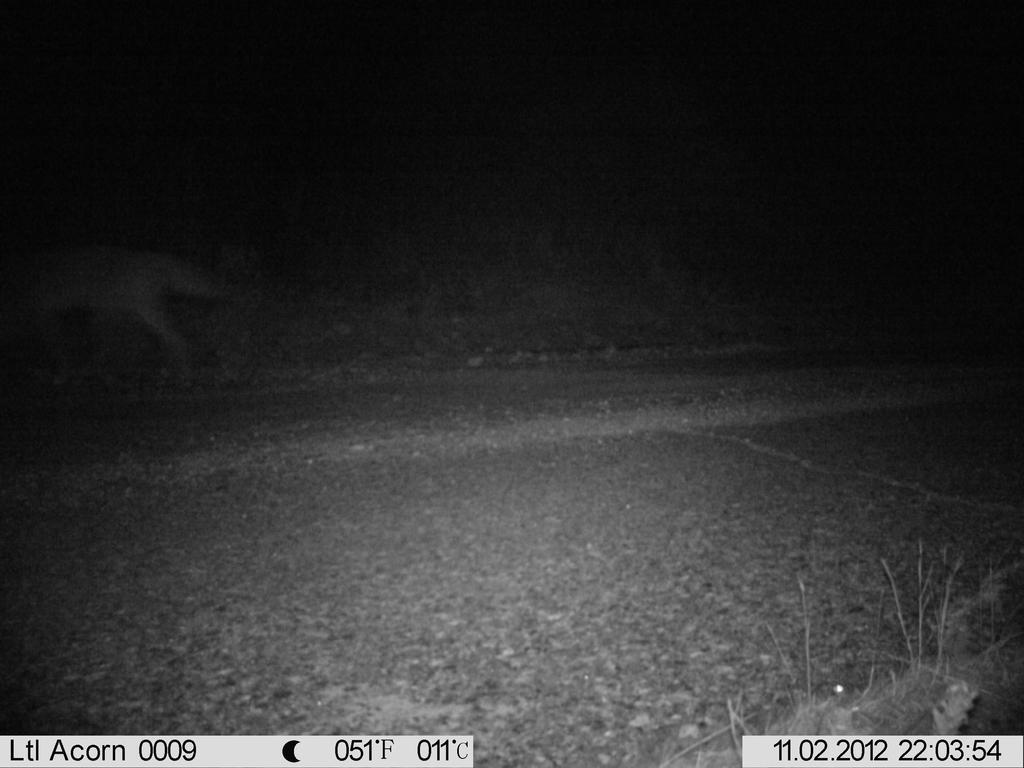coyote: (5, 231, 249, 388)
